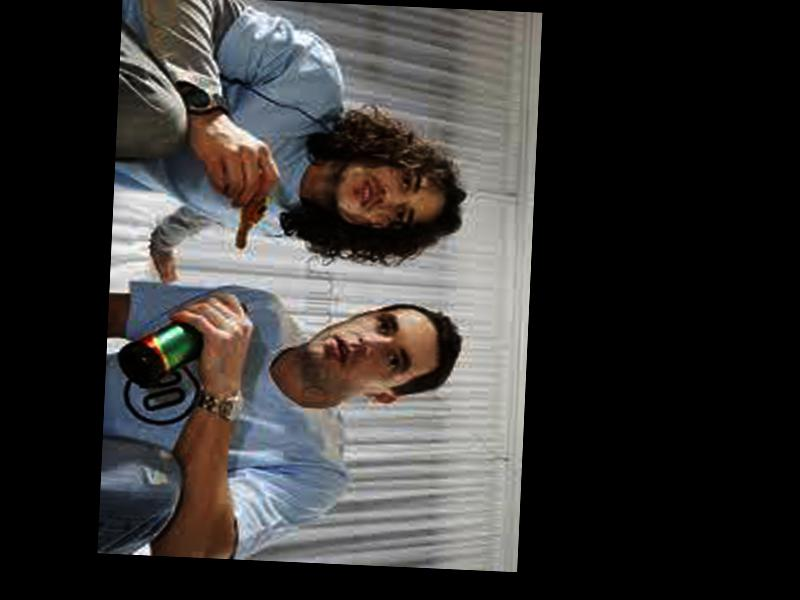Beer: (116, 297, 248, 393)
